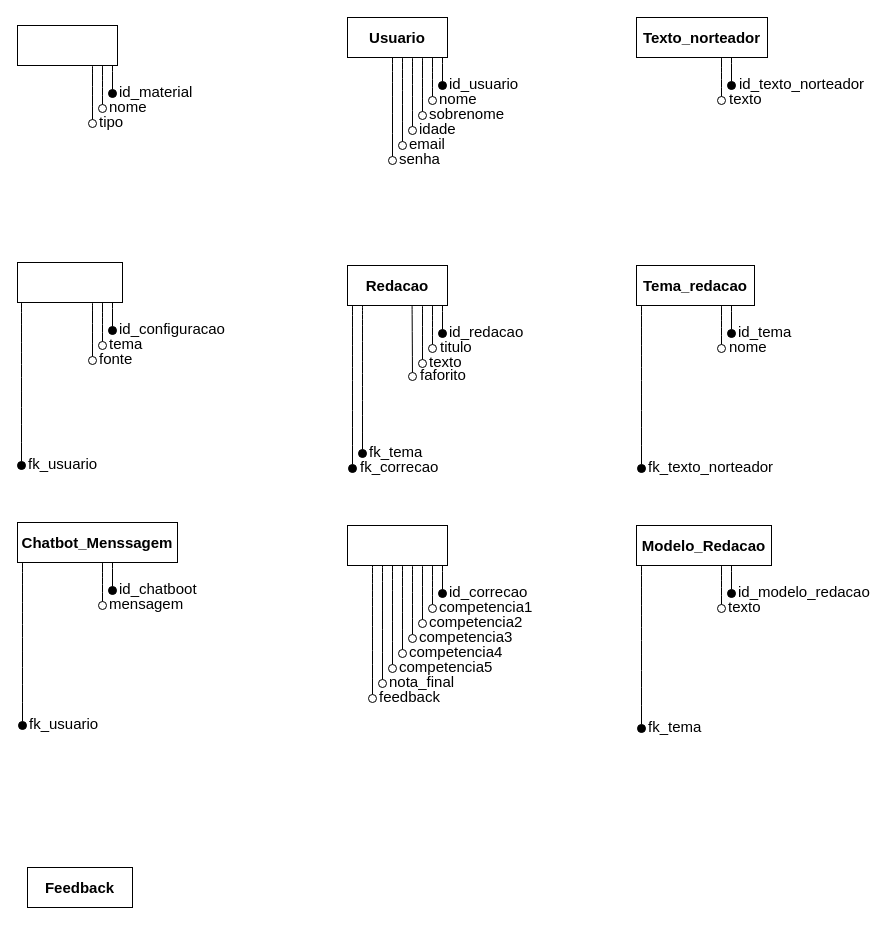
The diagram is 888 pixels wide and 925 high, and some of its shapes have lost their labels. Here are the shapes that lost their labels. From the top down, the box of each, then its label:
(16, 24, 118, 66): Material
(16, 262, 122, 302): Configuracao
(346, 524, 448, 566): Correção
